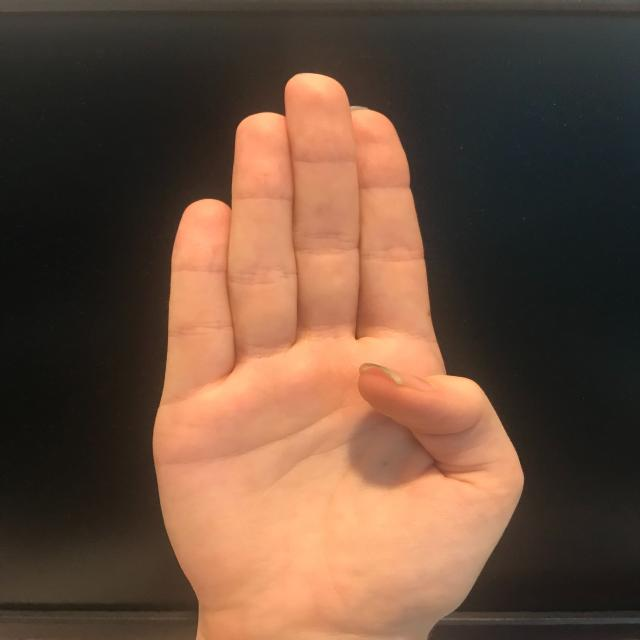B: (146, 69, 529, 640)
